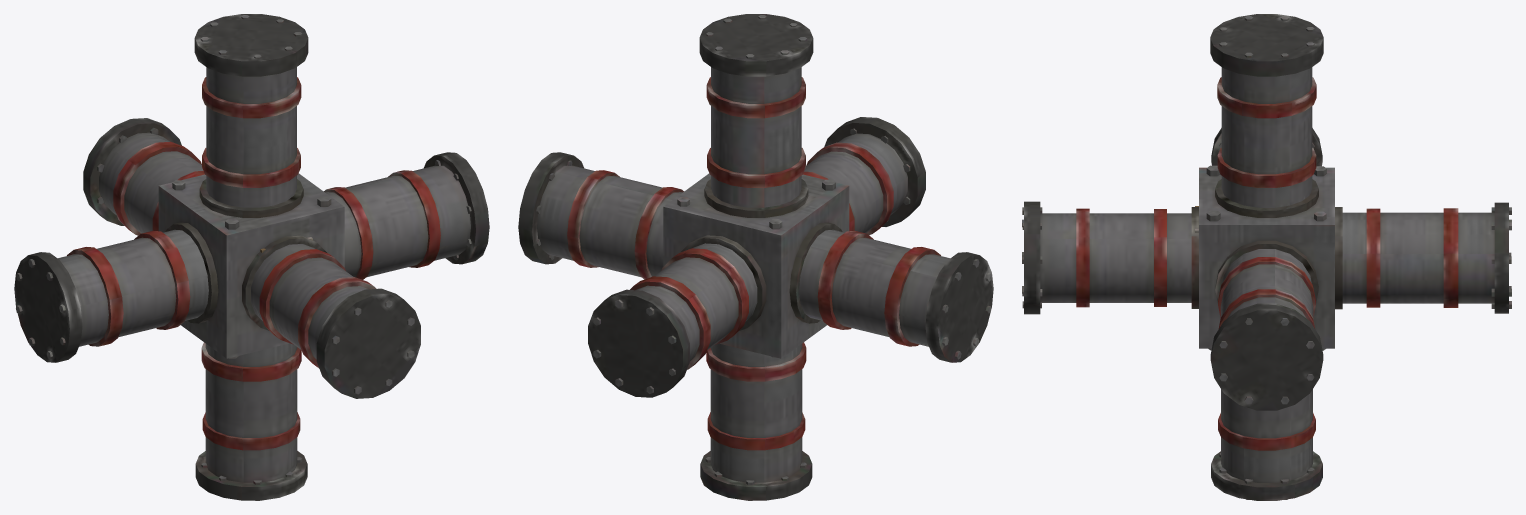
Rendered from fePipeHP.glb.
3 renders of one model, left to right at view 1: azimuth 30°, elevation 25°; view 2: azimuth 150°, elevation 25°; view 3: azimuth 270°, elevation 25°, orthographic.
Visible parts, largest first — view 1: FeArm_PY, FeArm_PX, FeArm_PZ, fePipe_Core, FeArm_NY, FeArm_NX, FeArm_NZ; view 2: FeArm_PY, FeArm_PX, FeArm_NZ, fePipe_Core, FeArm_NY, FeArm_NX, FeArm_PZ; view 3: FeArm_PY, FeArm_NZ, FeArm_PZ, FeArm_NX, fePipe_Core, FeArm_NY.
Part boxes in pixels (x1,y1,x2,y2): FeArm_PY: (194, 14, 308, 207); FeArm_PX: (14, 229, 208, 362); FeArm_PZ: (251, 244, 420, 398); fePipe_Core: (158, 173, 344, 358); FeArm_NY: (195, 342, 307, 500); FeArm_NX: (324, 152, 489, 279); FeArm_NZ: (83, 118, 204, 235); FeArm_PY: (699, 14, 813, 207); FeArm_PX: (799, 229, 993, 362); FeArm_NZ: (588, 243, 757, 397); fePipe_Core: (663, 173, 849, 358); FeArm_NY: (700, 342, 812, 500); FeArm_NX: (518, 152, 683, 279); FeArm_PZ: (803, 117, 925, 235); FeArm_PY: (1210, 14, 1323, 207); FeArm_NZ: (1342, 202, 1511, 313); FeArm_PZ: (1022, 201, 1191, 314); FeArm_NX: (1210, 249, 1323, 410); fePipe_Core: (1191, 165, 1342, 350); FeArm_NY: (1211, 389, 1322, 500).
Bounding box in the file's own units: 1.01 × 1.01 × 1.01.
Materials: 1 (1 with a texture image).
